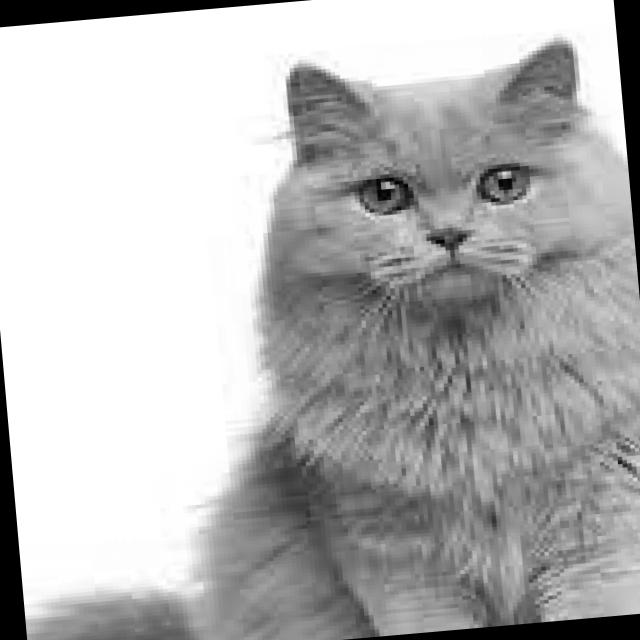british: (246, 13, 640, 339)
